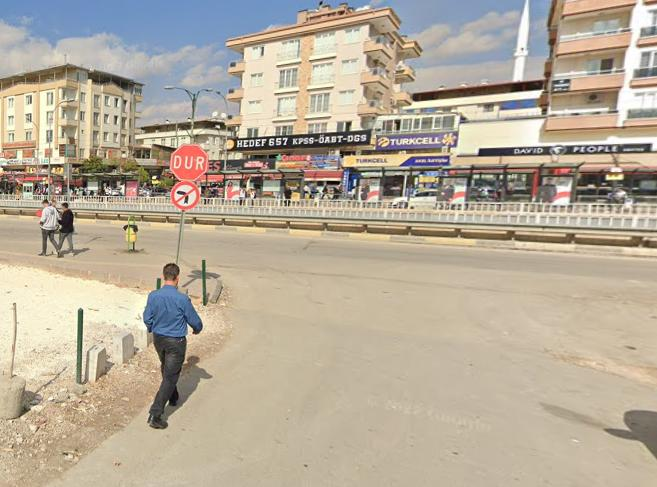leftturnsareforbidden: (172, 183, 198, 208)
stop: (169, 143, 208, 178)
